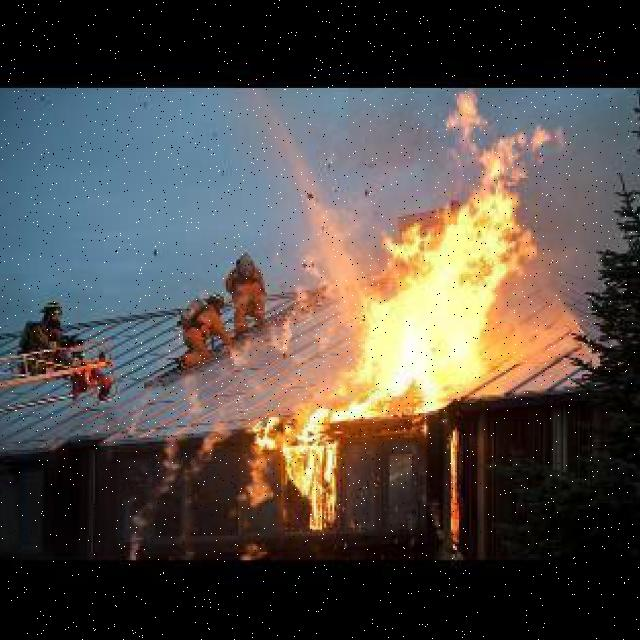fire: (340, 86, 570, 413), (242, 402, 344, 534), (447, 425, 471, 554)
smoke: (269, 206, 355, 358), (126, 436, 179, 558), (183, 396, 234, 486), (179, 366, 207, 427), (122, 388, 152, 438), (228, 333, 259, 374)
